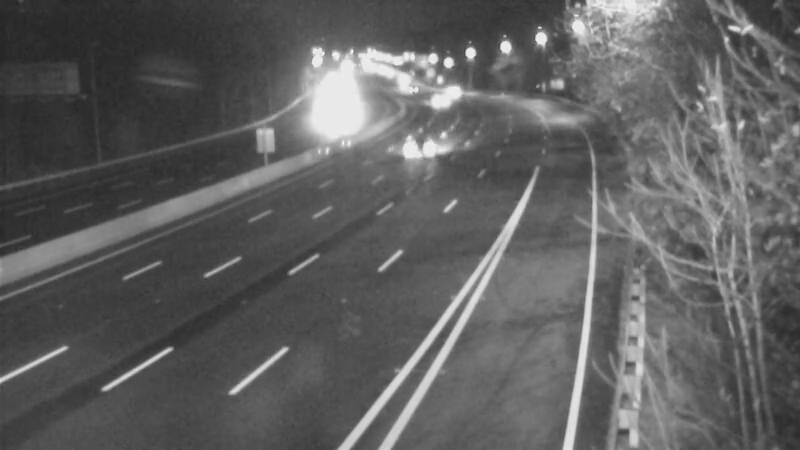vehicle: (377, 115, 457, 195), (392, 61, 442, 111), (427, 70, 477, 120), (415, 76, 465, 126), (296, 88, 346, 138)
